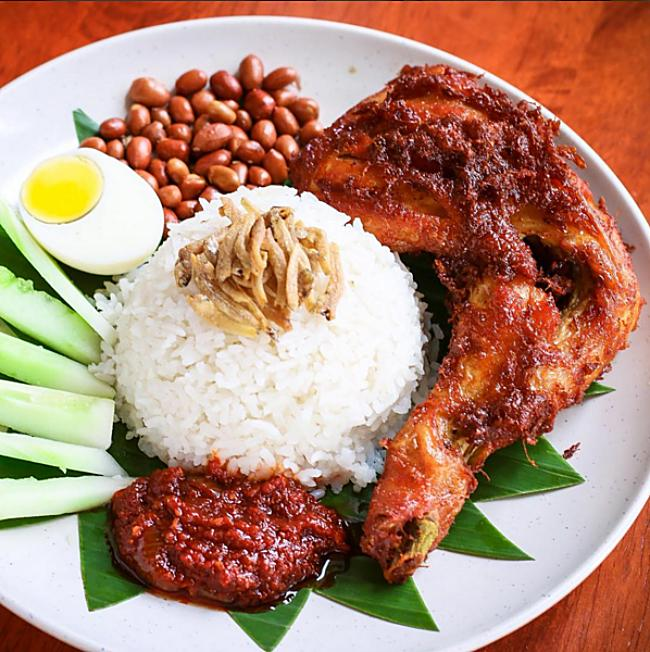Anchovies: (177, 199, 339, 338)
Boiled-Egg: (19, 151, 166, 277)
Cucumber: (0, 206, 140, 531)
Fried-Chicken: (285, 66, 642, 587)
Peanuts: (93, 57, 318, 213)
Rice: (117, 186, 418, 493)
Sambal: (111, 464, 342, 611)
